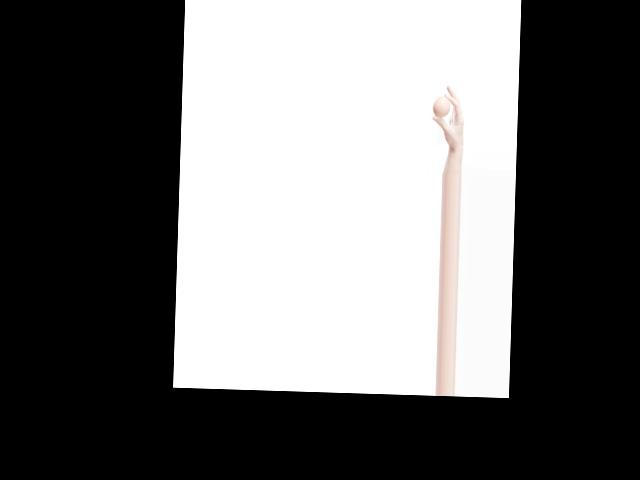egg: (432, 96, 450, 118)
